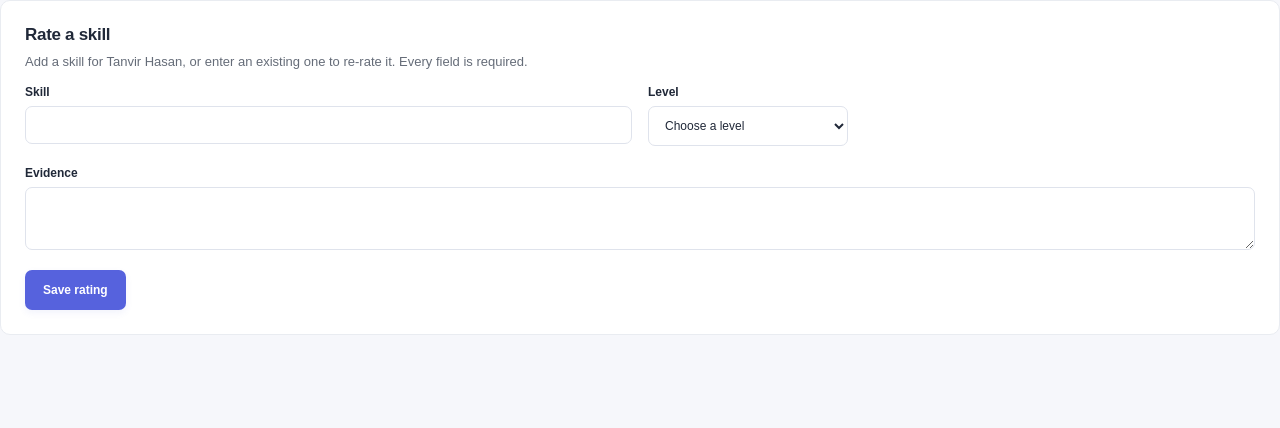
it: SkillRatingPanel (Story 7.4) › shows a refusal as an alert and keeps what was entered
In the field labelled "Skill": (328, 125) [25,106,632,144], type "React"
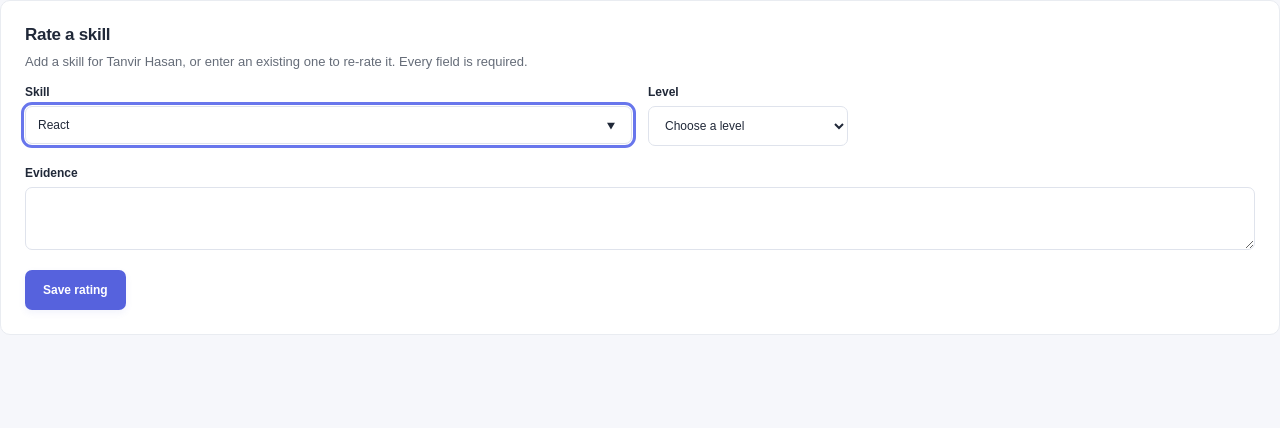
Select "2 · developing" in the dropdown labelled "Level": (748, 126) [648,106,848,146]
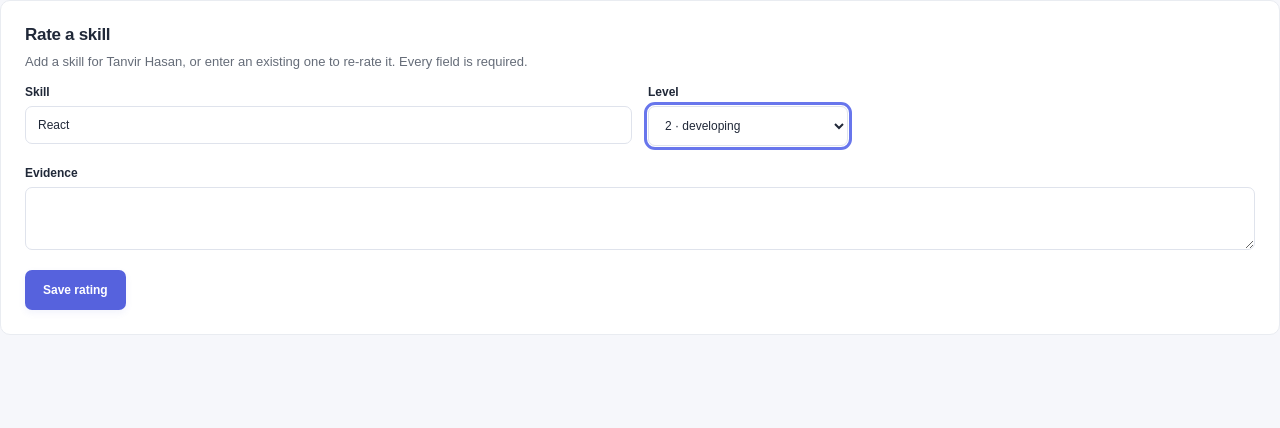
In the text box labelled "Evidence": (640, 219) [25,187,1255,250], type "Review"
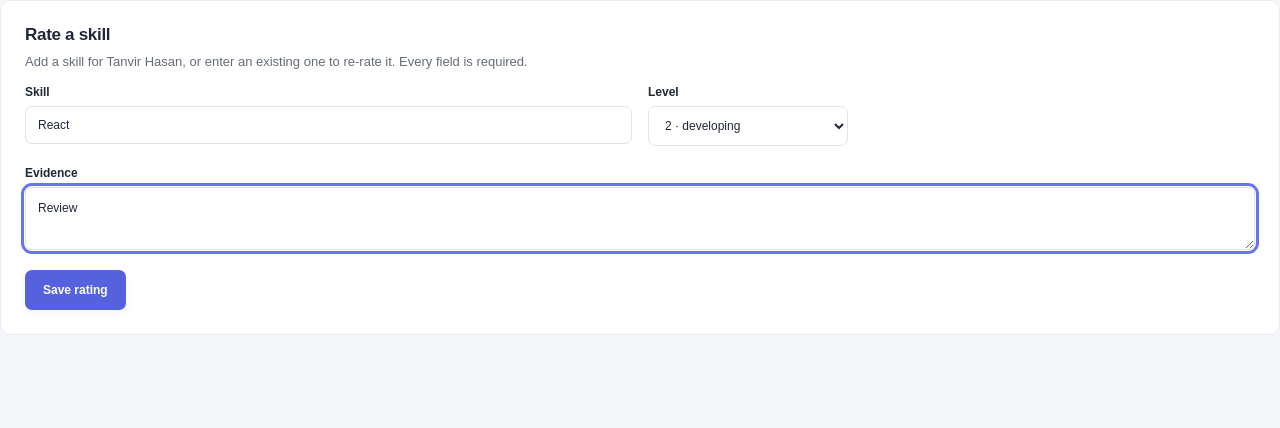
Click the button "Save rating": (75, 290) [25,270,126,310]
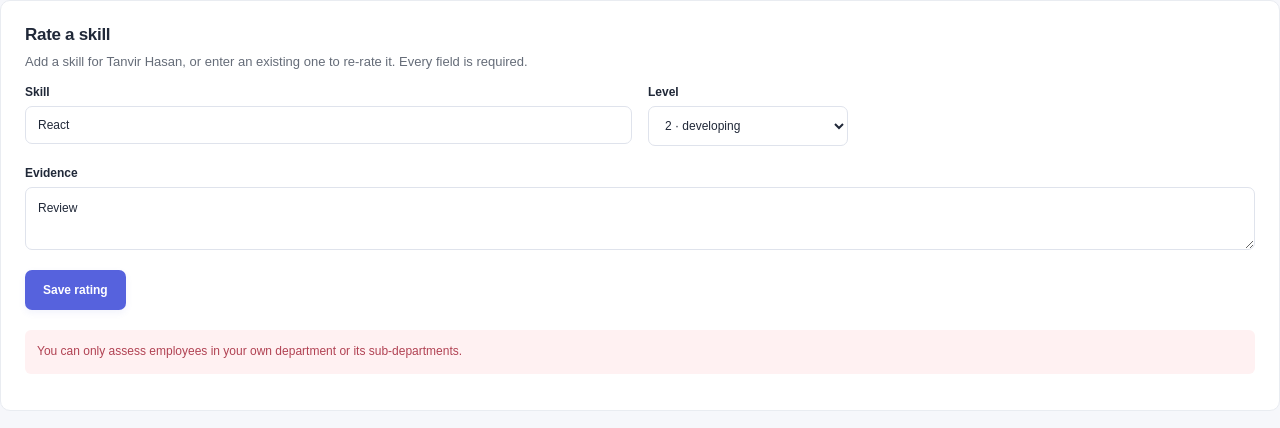
Check: the message shows "You can only assess employees", box [37,344,462,358]
